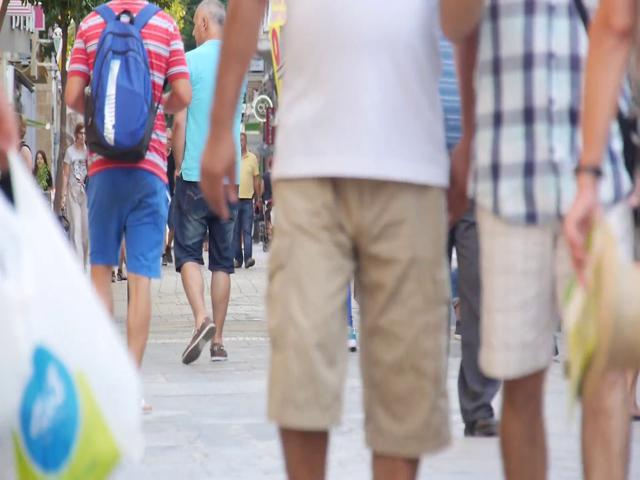shoe: (182, 317, 216, 364), (209, 343, 228, 361)
